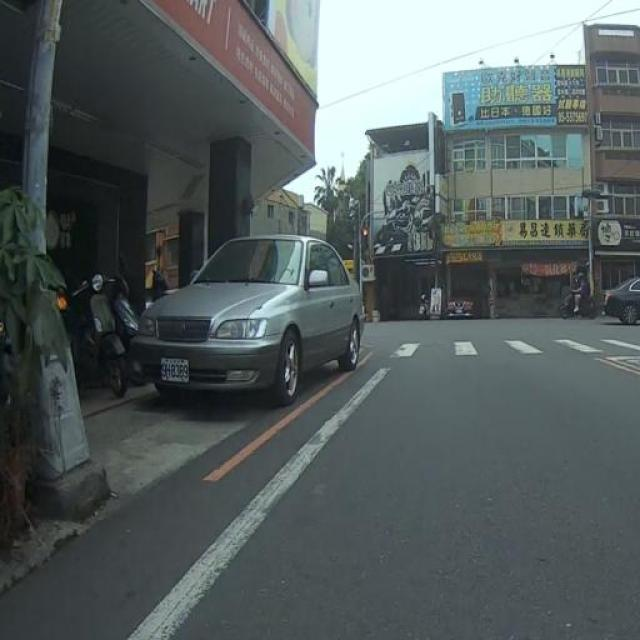illegalparking: (116, 226, 403, 423)
